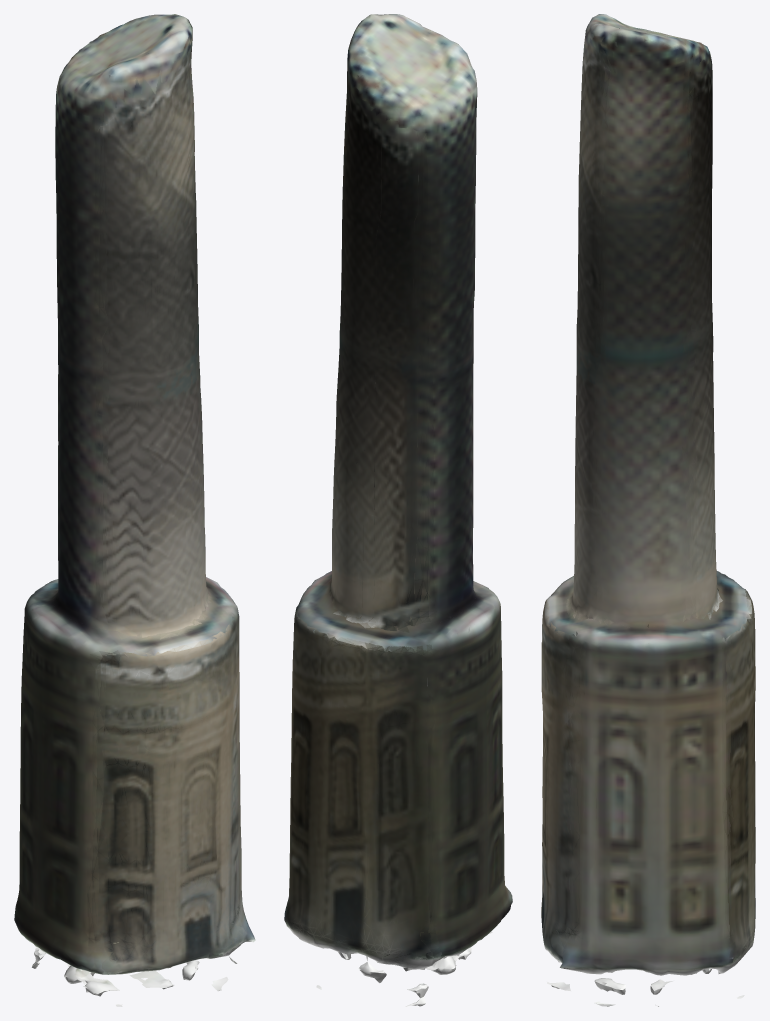
Rendered from the_mudhafaria_minaret_of_erbil.glb.
The picture shows the model from 3 angles, left to right: view 1: azimuth 30°, elevation 25°; view 2: azimuth 150°, elevation 25°; view 3: azimuth 270°, elevation 25°; orthographic projection. The views are drawn at different scales.
Visible parts, largest first — view 1: mesh.obj_1; view 2: mesh.obj_1; view 3: mesh.obj_1.
Part boxes in pixels (<box>): mesh.obj_1: <box>14,14,255,1006</box>; mesh.obj_1: <box>284,14,512,1006</box>; mesh.obj_1: <box>541,14,755,1006</box>.
Bounding box in the file's own units: 0.2222 × 1.12 × 0.2232.
Materials: 1 (1 with a texture image).
